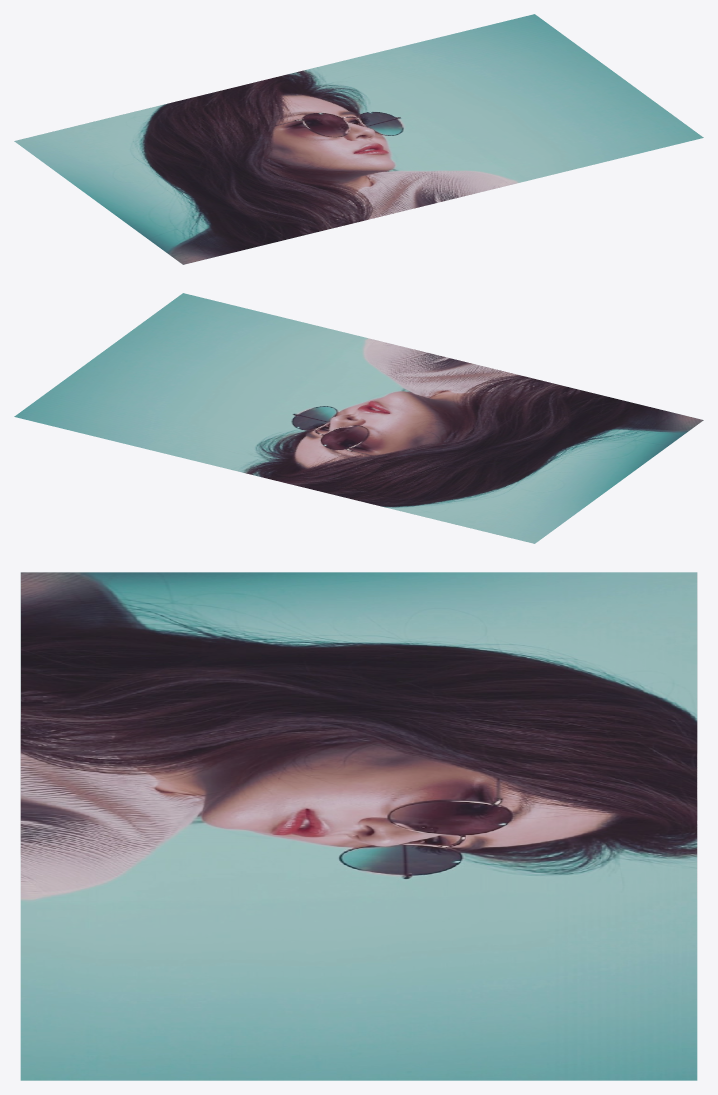
File: sunglass.fbx
3 renders of one model, top to bottom at view 1: azimuth 30°, elevation 25°; view 2: azimuth 150°, elevation 25°; view 3: azimuth 270°, elevation 25°, orthographic. The views are drawn at different scales.
Parts seen in each view (by area): view 1: Plane001; view 2: Plane001; view 3: Plane001.
Part boxes in pixels (bbox=[...]): Plane001: bbox=[14, 14, 703, 264]; Plane001: bbox=[14, 293, 703, 543]; Plane001: bbox=[20, 572, 697, 1080].
Bounding box in the file's own units: 504 × 1.42e-14 × 283.
Materials: 1 (1 with a texture image).
